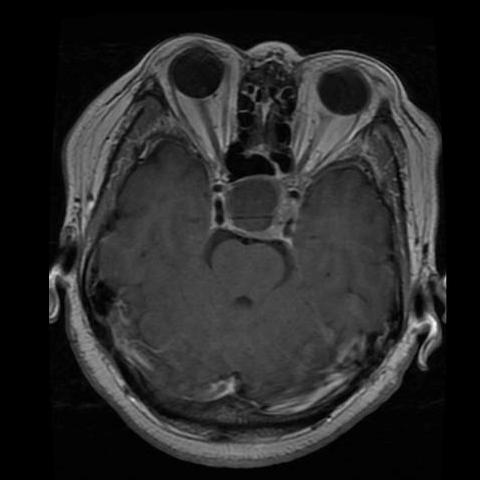Tumour-Pituitary: (197, 168, 316, 248)
